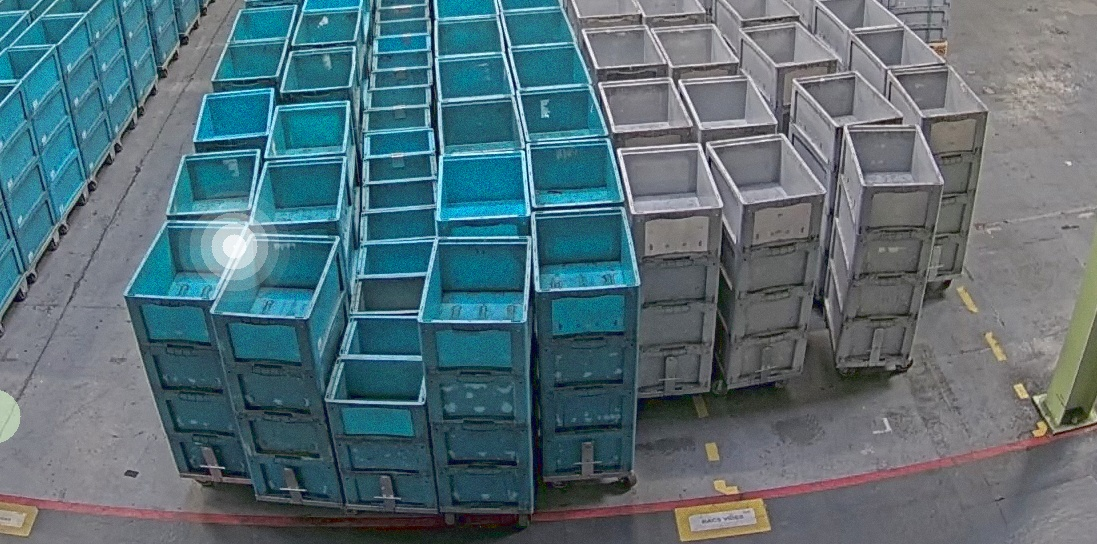4G: (705, 132, 827, 387), (822, 123, 945, 363), (617, 142, 724, 394), (885, 64, 989, 277)
B4: (208, 230, 351, 505), (120, 219, 252, 482), (416, 234, 534, 514), (528, 205, 643, 476)
B8: (323, 314, 443, 511)
